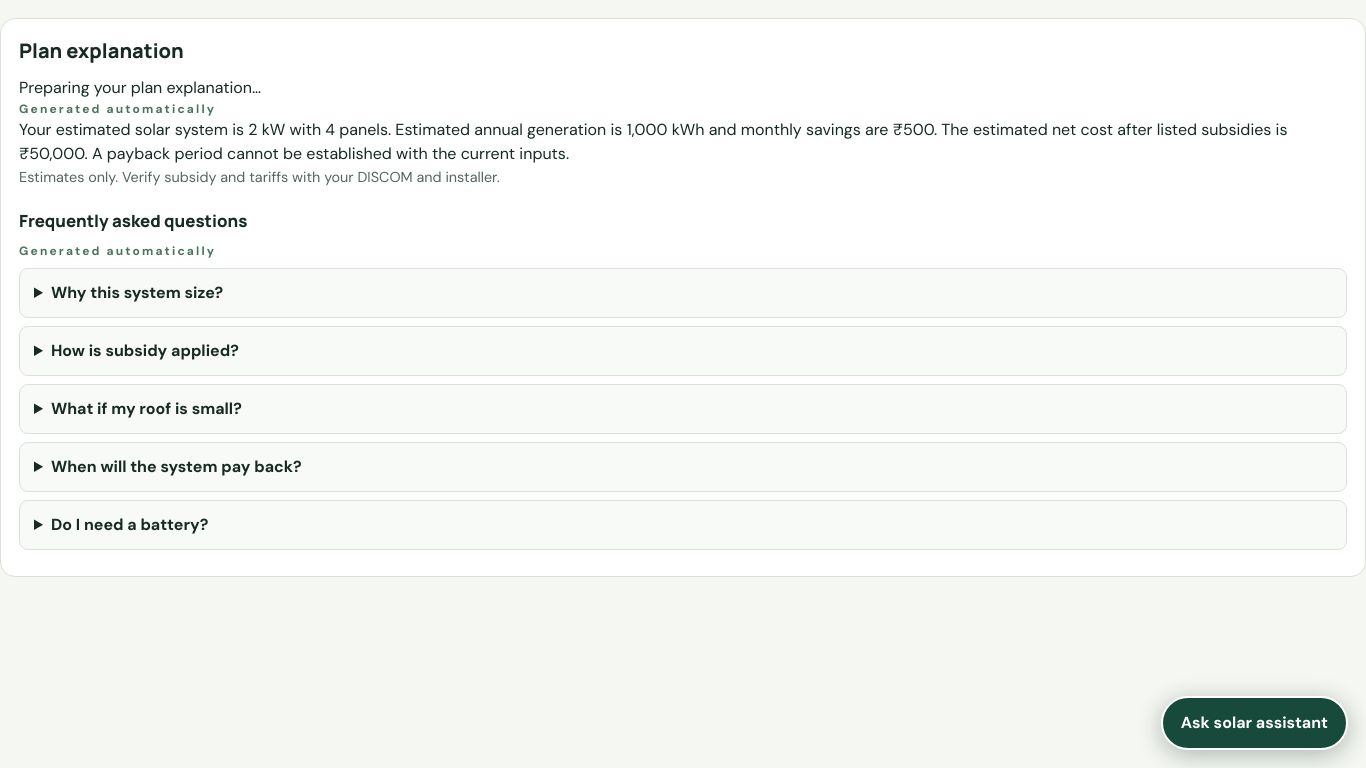
Scenario: AI advisor chatbot › opens and closes with button and Escape
Click the button "Ask solar assistant". click: (1254, 723)
box: [1161,696,1348,750]
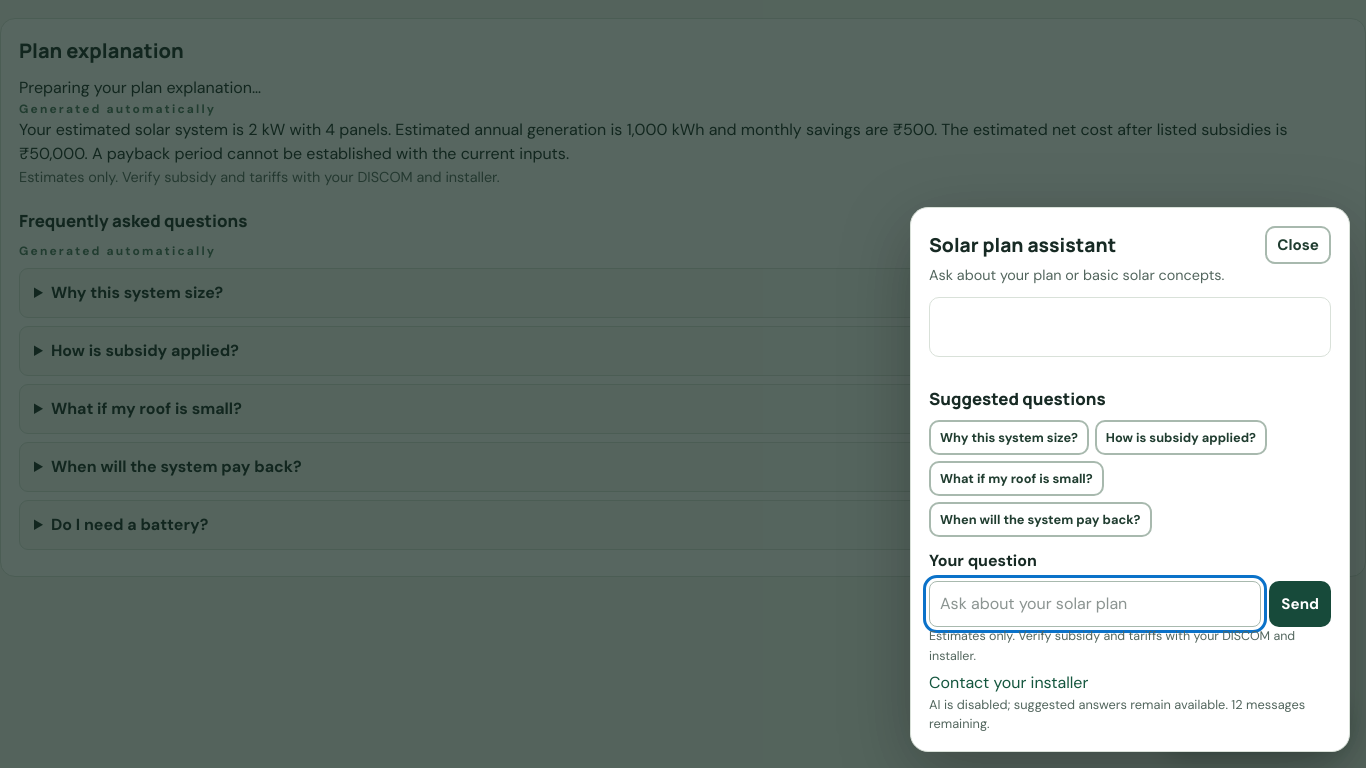
Now the dialog is shown, box [910,207,1350,752]
Press Escape
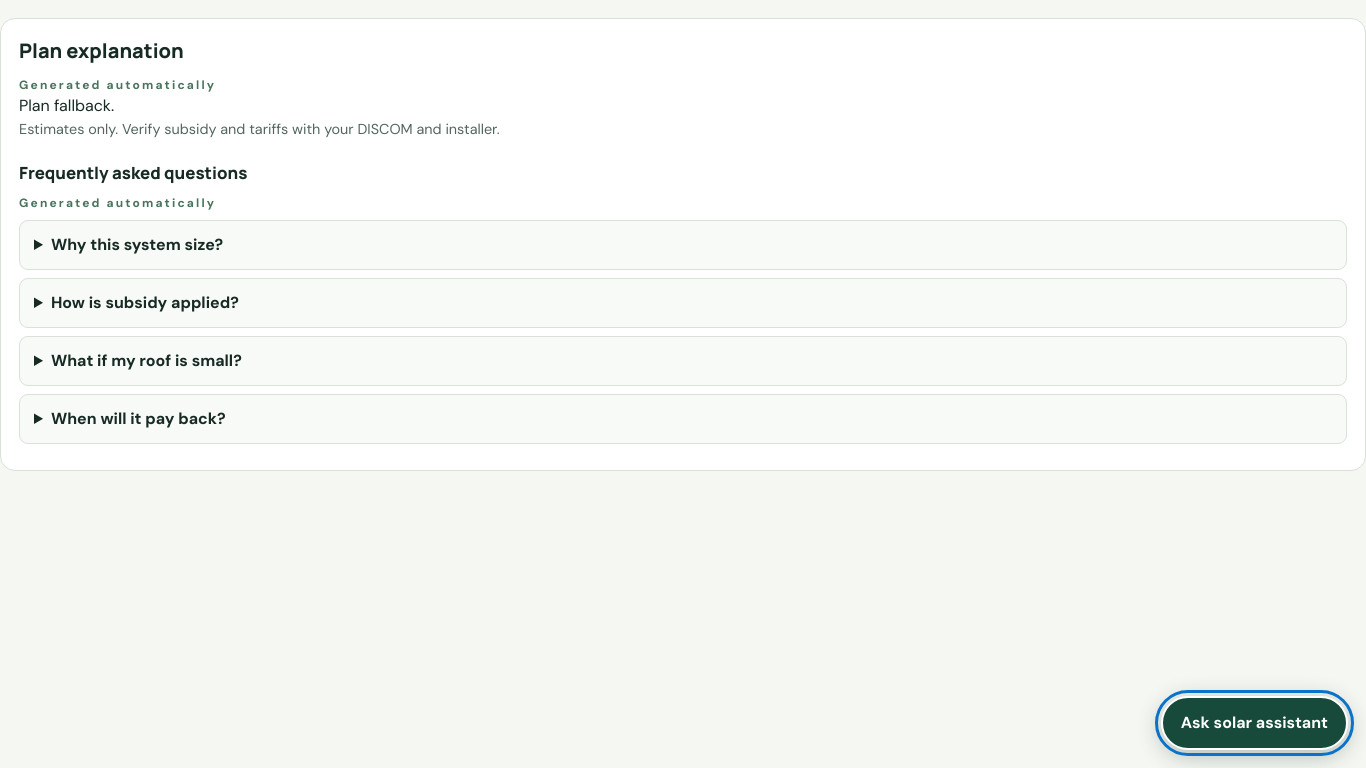
Now the dialog is gone
Now the button "Ask solar assistant" is collapsed, box [1161,696,1348,750]
